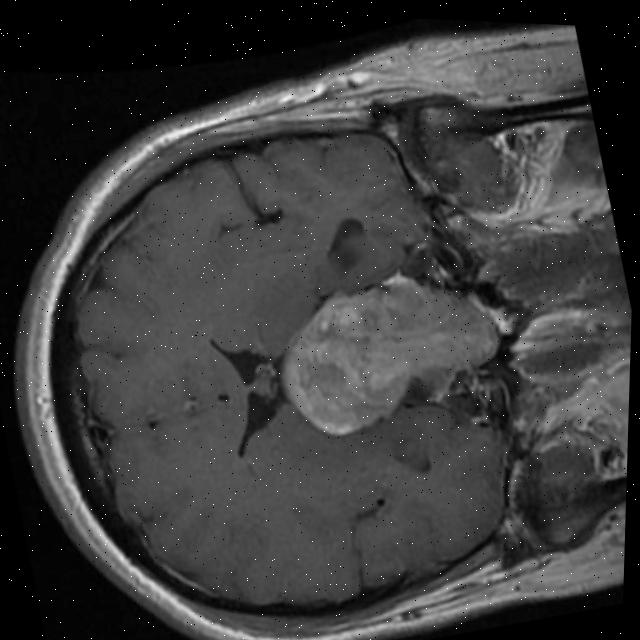Pituitary: (263, 254, 515, 451)
